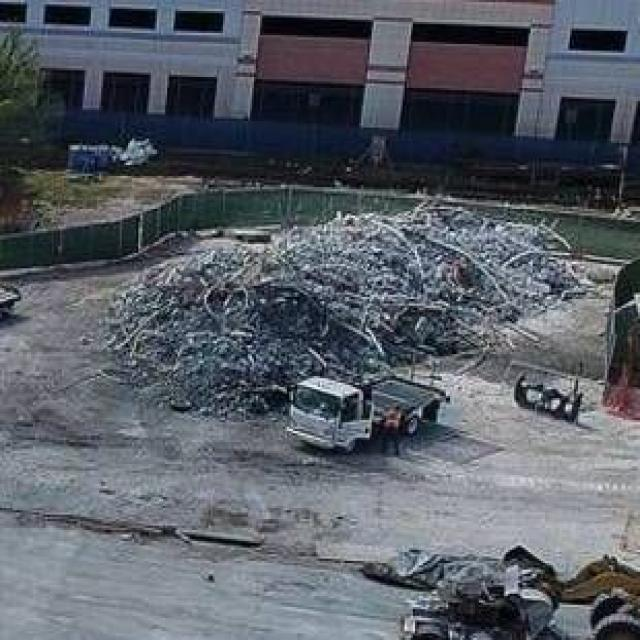collapsed_building: (101, 196, 560, 391)
